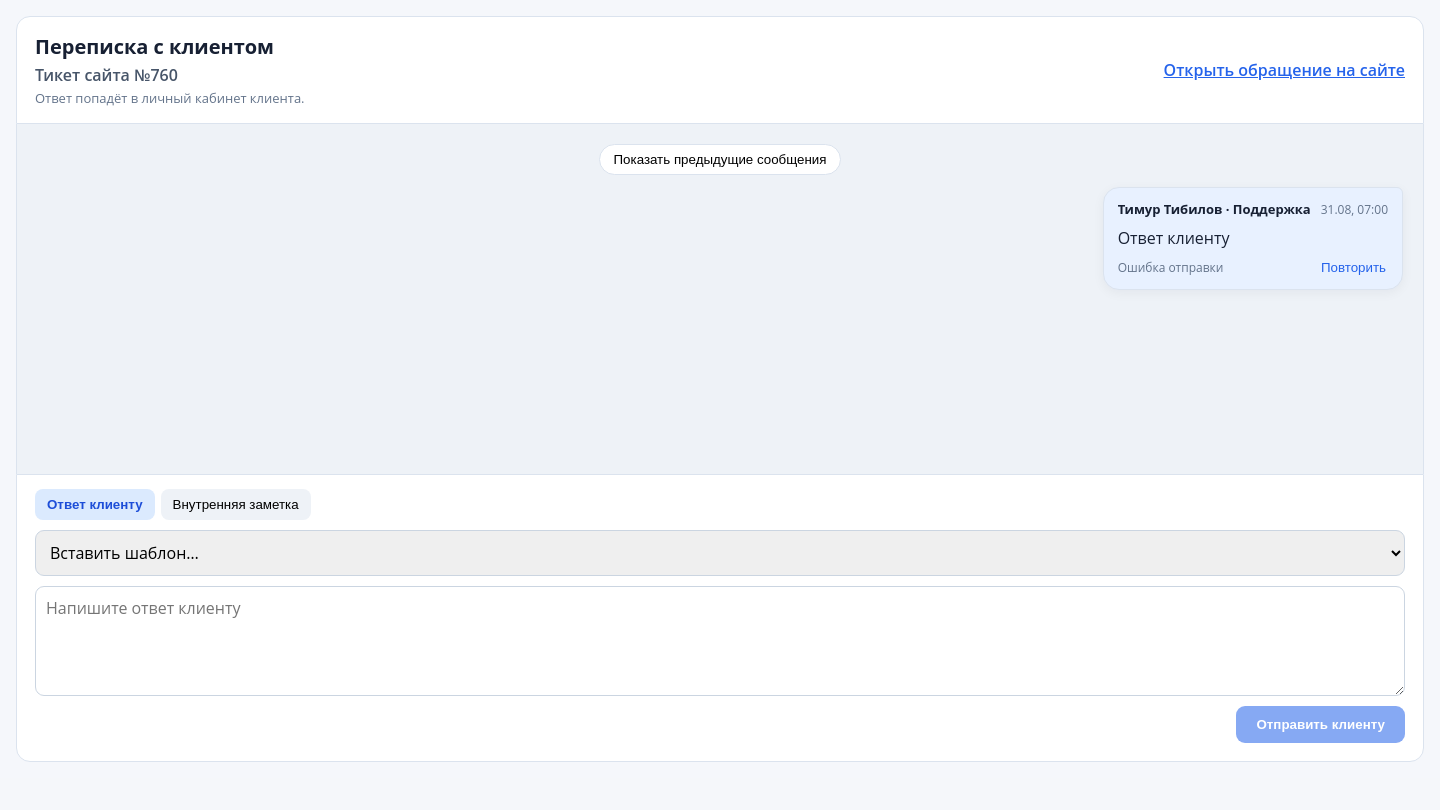
Test: SiteServiceRequestConversation › подгружает предыдущую страницу и сохраняет статусы внутренних заметок
Click the button "Показать предыдущие сообщения".
click(720, 160)  # box [598,144,842,175]
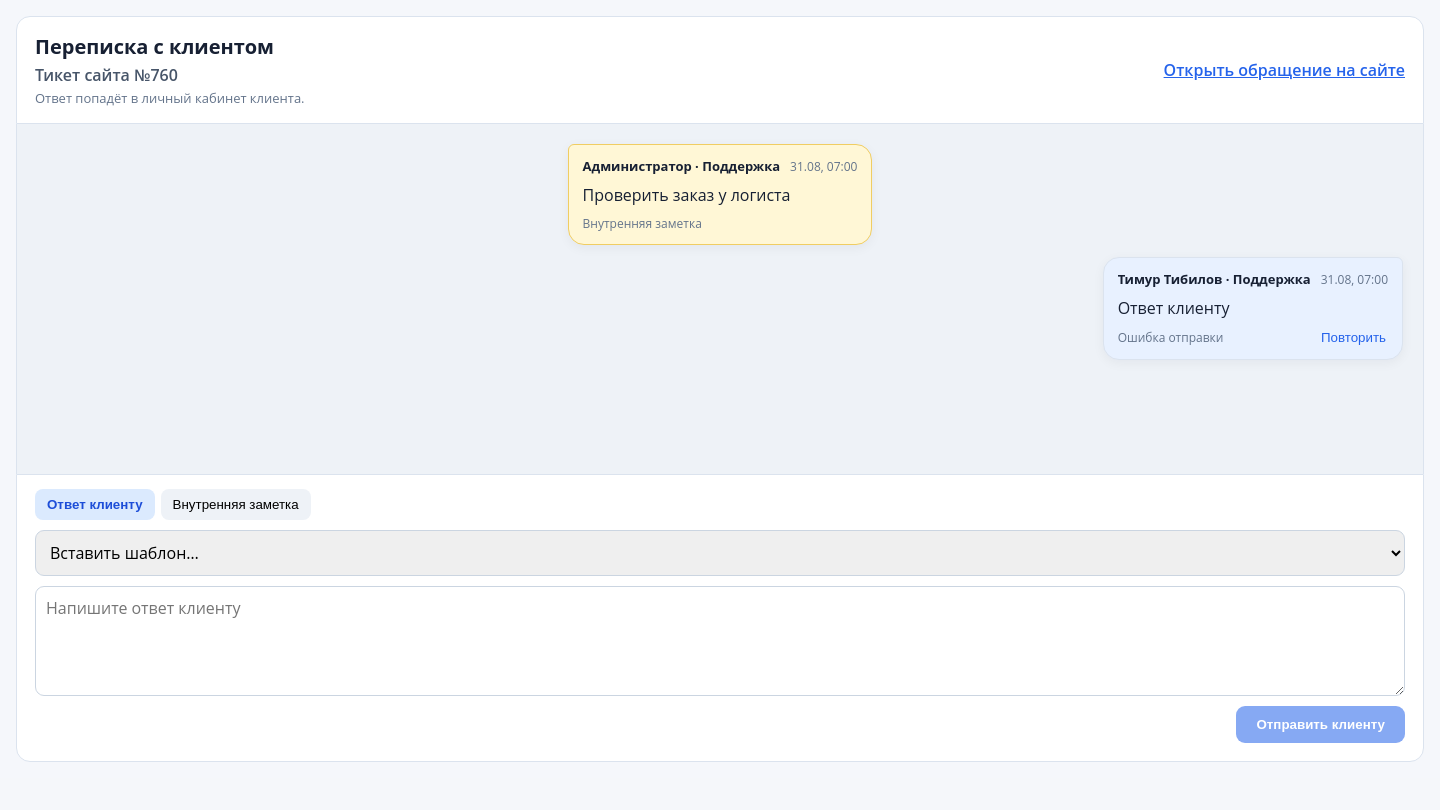
Check: the text "Проверить заказ у логиста" is shown, box [582,184,790,206]
Check: the text "Проверить заказ у логиста" shows "Внутренняя заметка", box [582,215,702,232]
